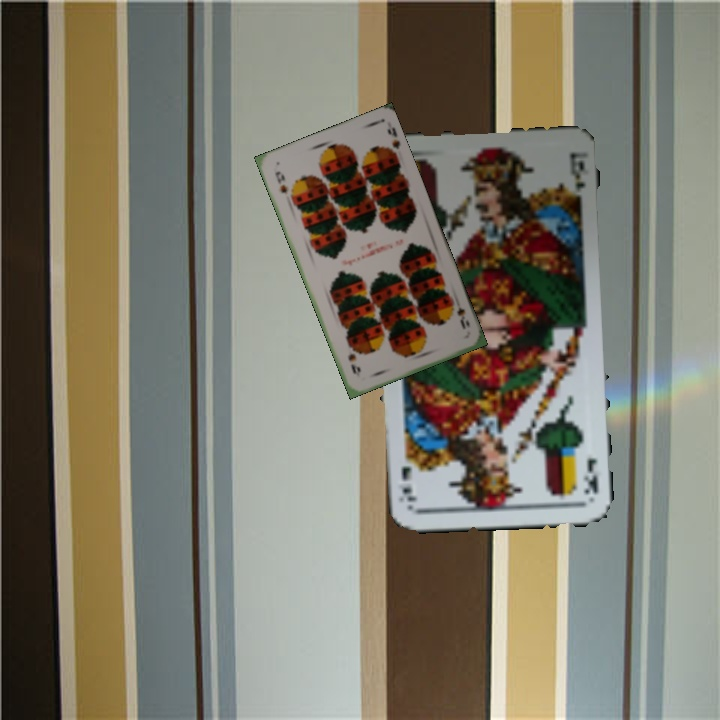EK: (579, 453, 601, 498)
S9: (446, 297, 472, 332), (271, 167, 290, 197)
